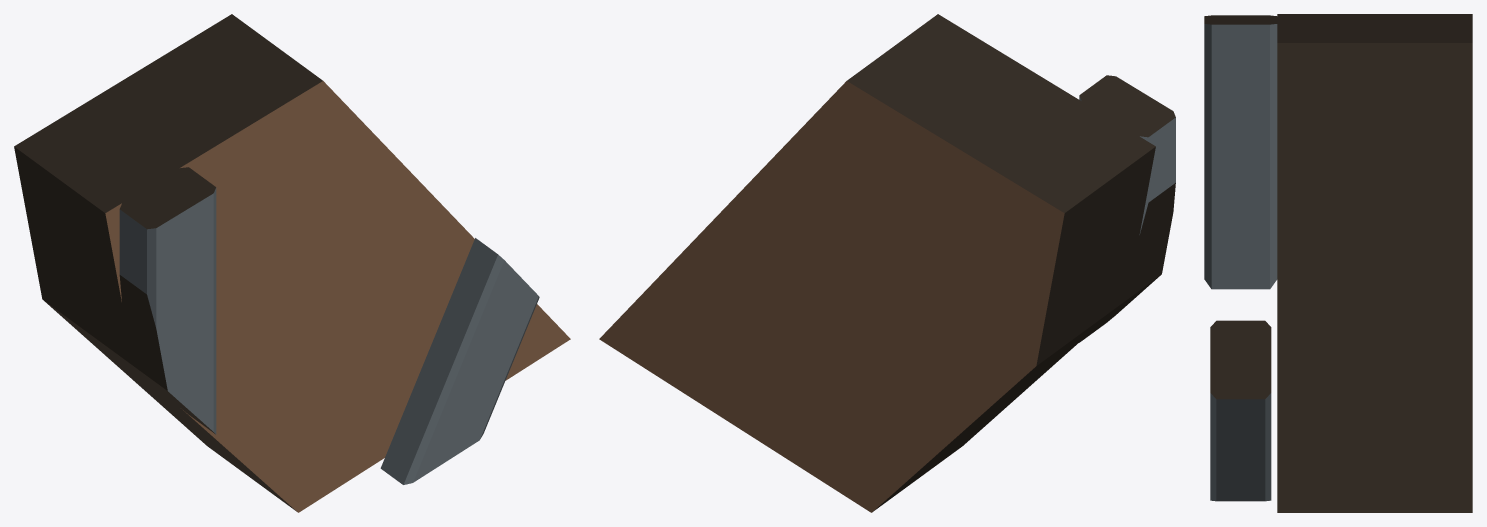
The model's file is SM_DoorShard_02_36.fbx.
The picture shows the model from 3 angles, left to right: view 1: azimuth 30°, elevation 25°; view 2: azimuth 150°, elevation 25°; view 3: azimuth 270°, elevation 25°; orthographic projection. The views are drawn at different scales.
Parts seen in each view (by area): view 1: SM_DoorShard_02_36; view 2: SM_DoorShard_02_36; view 3: SM_DoorShard_02_36.
Part boxes in pixels (x1,y1,x2,y2): SM_DoorShard_02_36: (14, 14, 570, 512); SM_DoorShard_02_36: (599, 14, 1175, 512); SM_DoorShard_02_36: (1204, 14, 1472, 512).
Size of the model in its own units: 47.09 by 22 by 41.18.
